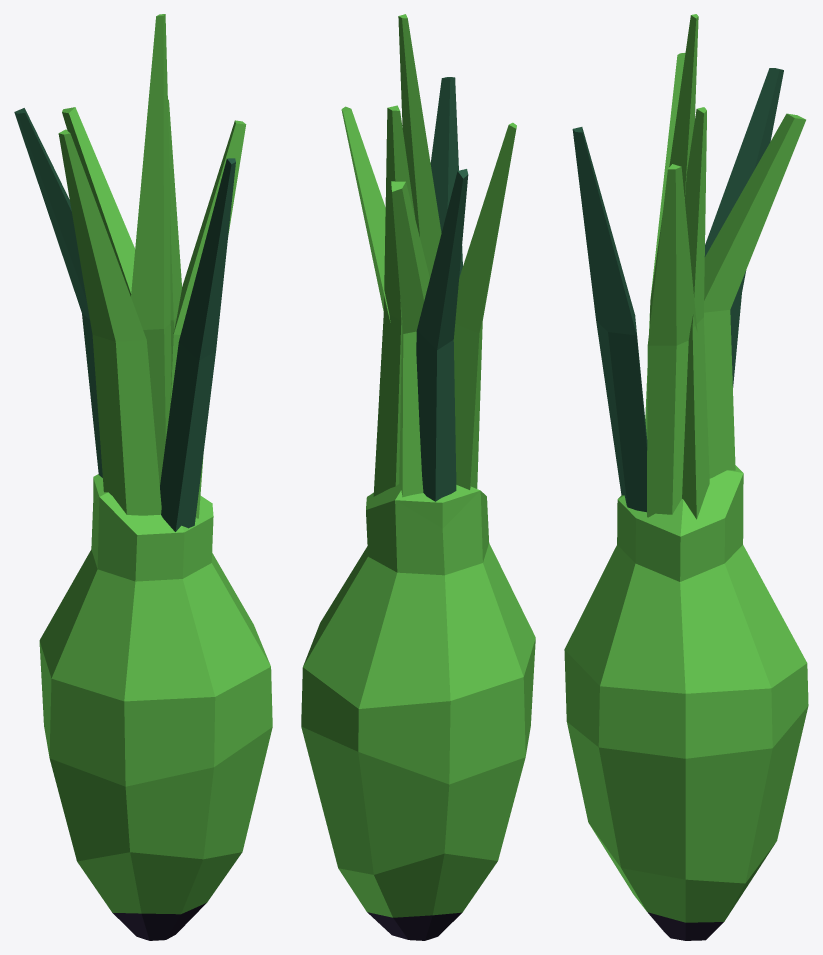
The model's file is Onion_S.fbx.
The picture shows the model from 3 angles, left to right: view 1: azimuth 30°, elevation 25°; view 2: azimuth 150°, elevation 25°; view 3: azimuth 270°, elevation 25°; orthographic projection.
Parts seen in each view (by area): view 1: Onion_S; view 2: Onion_S; view 3: Onion_S.
Boxes of the visible parts, x1,y1,x2,y2 form: Onion_S: [14, 14, 272, 940]; Onion_S: [301, 14, 535, 940]; Onion_S: [564, 14, 808, 940].
Bounding box in the file's own units: 7.42 × 30.91 × 7.41.
